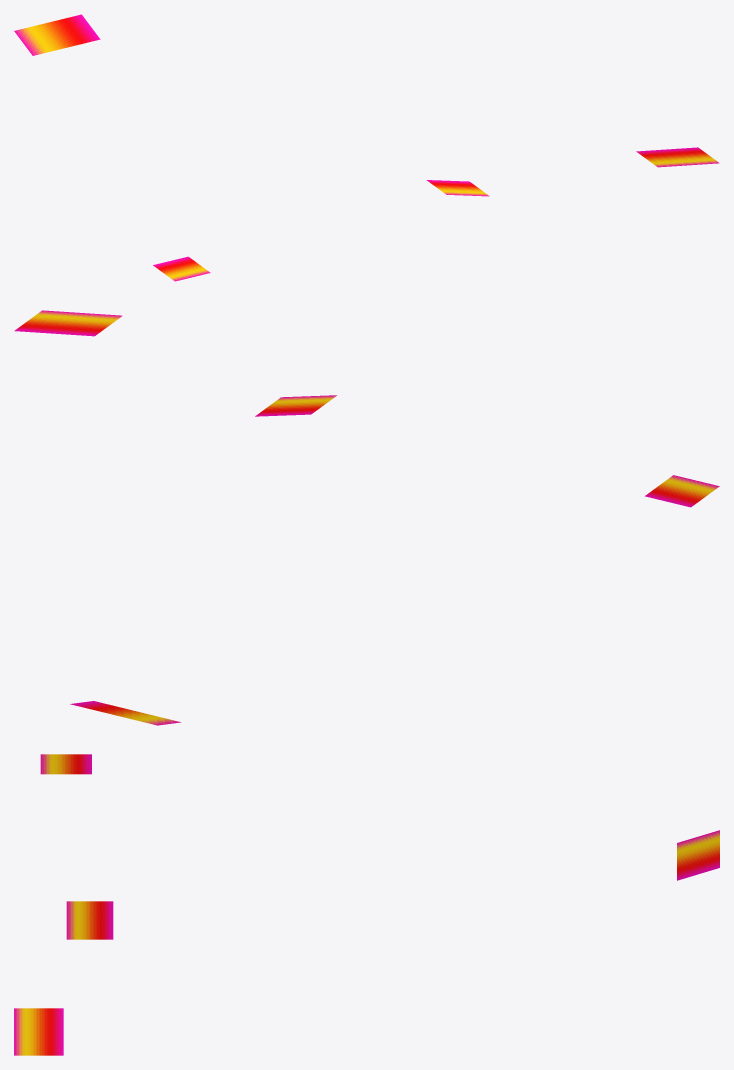
The picture shows the model from 3 angles, top to bottom: view 1: azimuth 30°, elevation 25°; view 2: azimuth 150°, elevation 25°; view 3: azimuth 270°, elevation 25°; orthographic projection. The views are drawn at different scales.
Visible parts, largest first — view 1: polygon57; view 2: polygon57; view 3: polygon57.
Boxes of the visible parts, <box> form: polygon57: <box>14,14,719,281</box>; polygon57: <box>14,310,719,725</box>; polygon57: <box>14,754,719,1055</box>.
Size of what is drawn, in the model's own units: 32657 by 1208 by 32745.
1 material, 1 textured.
